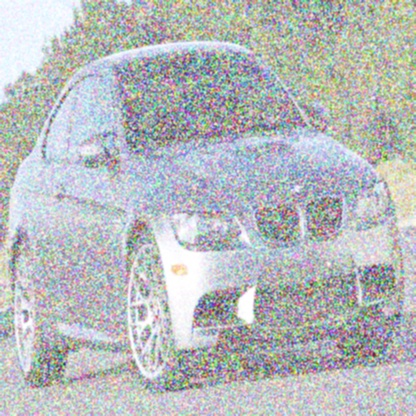Vehicle: (7, 41, 406, 395)
